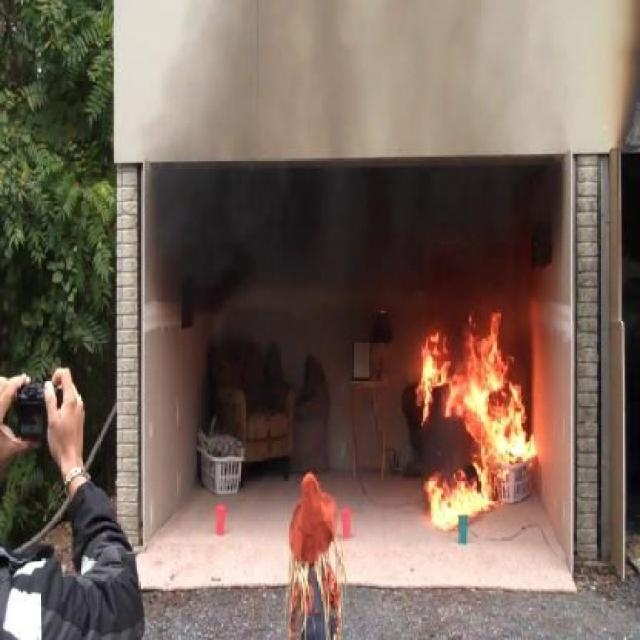fire: (400, 306, 537, 523)
smoke: (152, 164, 559, 306)
